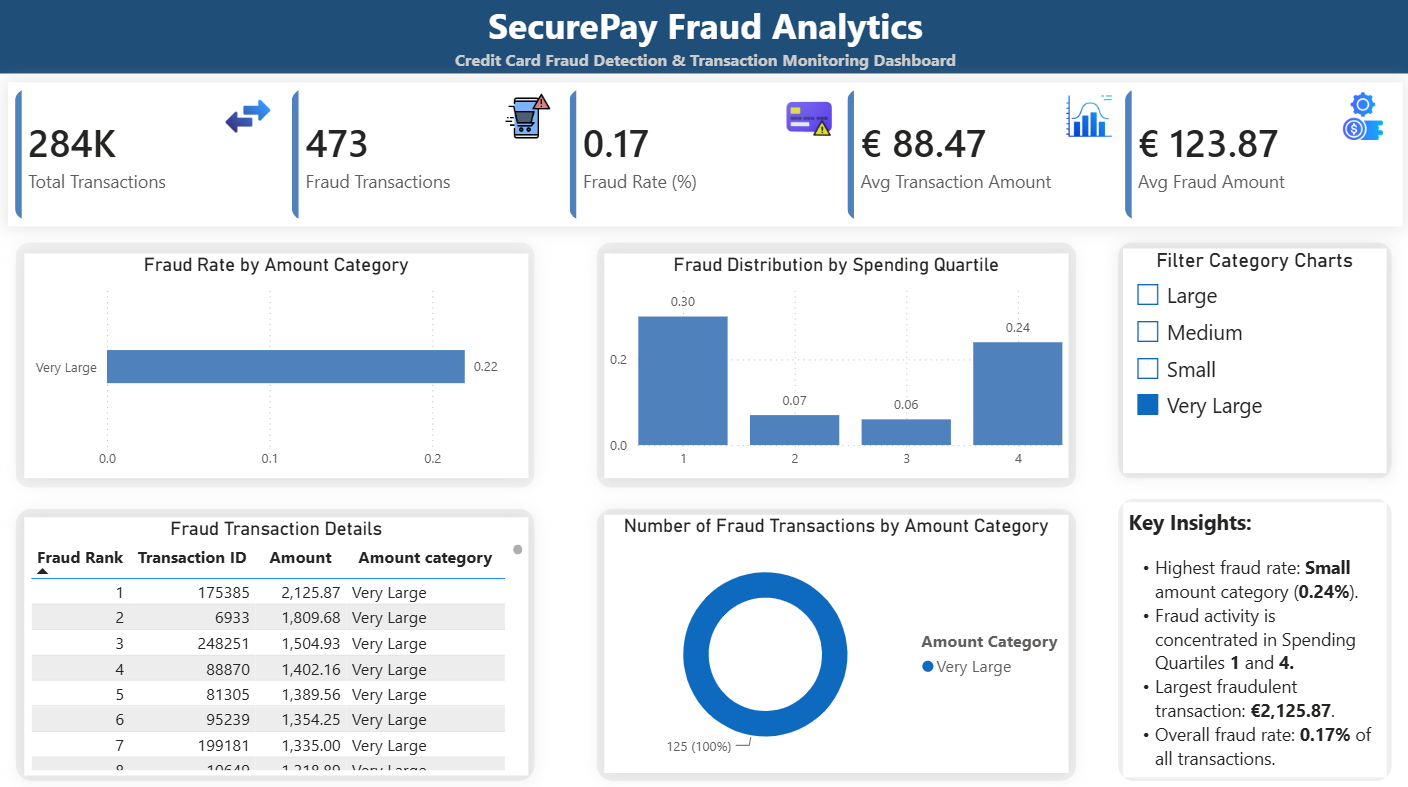

The page's visual inventory and layout, read from the dashboard file:
{"tool":"powerbi","page":{"name":"Fraud Overview","canvas":[1280,720],"ordinal":0},"visuals":[{"type":"shape","box":[0,0,1279.9,70.1],"z":0},{"type":"cardVisual","fields":{"Data":["Sum(public vw_executive_summary.total_transactions)","Sum(public vw_executive_summary.fraud_transactions)","Sum(public vw_executive_summary.fraud_percentage)","Sum(public vw_executive_summary.avg_transaction_amount)","Sum(public vw_executive_summary.avg_fraud_amount)"]},"box":[9.3,77.9,1261.6,130.2],"z":1000},{"type":"textbox","box":[0,0,1279.9,78],"z":2000},{"type":"shape","box":[16.3,223.3,469.8,222.1],"z":3000},{"type":"clusteredBarChart","title":"Fraud Rate by Amount Category","fields":{"Category":["public vw_amount_category_summary.amount_category"],"Y":["Sum(public vw_amount_category_summary.fraud_percentage)"]},"box":[23.3,232.6,455.8,203.5],"z":4000},{"type":"shape","box":[541.9,223.3,433.7,222.1],"z":5000},{"type":"columnChart","title":"Fraud Distribution by Spending Quartile","fields":{"Category":["public vw_spending_quartiles.spending_quartile"],"Y":["Sum(public vw_spending_quartiles.fraud_percentage)"]},"box":[548.8,232.6,419.8,203.5],"z":6000},{"type":"shape","box":[1012.8,223.3,247.7,214],"z":7000},{"type":"slicer","title":"Filter Category Charts","fields":{"Values":["public vw_amount_category_summary.amount_category"]},"box":[1017.4,227.9,238.4,203.5],"z":8000},{"type":"shape","box":[16.3,464,469.8,246.5],"z":9000},{"type":"tableEx","title":"Fraud Transaction Details","fields":{"Values":["public vw_fraud_ranking.fraud_rank","public vw_fraud_ranking.transaction_id","public vw_fraud_ranking.amount","public vw_fraud_ranking.amount_category"]},"box":[23.3,470.9,455.8,233.7],"z":10000},{"type":"shape","box":[541.9,464,433.7,246.5],"z":11000},{"type":"donutChart","fields":{"Category":["public vw_amount_category_summary.amount_category"],"Y":["Sum(public vw_amount_category_summary.fraud_transactions)"]},"box":[548.8,469.8,419.8,233.7],"z":12000},{"type":"shape","box":[1012.8,454.7,247.7,255.8],"z":13000},{"type":"textbox","box":[1017.4,458.1,238.4,248.8],"z":14000},{"type":"image","box":[1209.3,87.2,50,43],"z":14001},{"type":"image","box":[454.7,87.2,50,43],"z":14002},{"type":"image","box":[709.3,87.2,50,43],"z":14003},{"type":"image","box":[961.6,87.2,50,43],"z":14004},{"type":"image","box":[201.2,87.2,50,43],"z":14005}]}

Visuals, with their boxes in screenshot pixels (x1, y1, x2, y2), scaled from the page's 1280x720 canvas onto the 1408x787 screenshot:
shape: (0,0,1407,77)
cardVisual - Sum(public vw_executive_summary.total_transactions) x Sum(public vw_executive_summary.fraud_transactions): (10,85,1398,227)
textbox: (0,0,1407,85)
shape: (18,244,535,487)
"Fraud Rate by Amount Category" clusteredBarChart: (26,254,527,477)
shape: (596,244,1073,487)
"Fraud Distribution by Spending Quartile" columnChart: (604,254,1065,477)
shape: (1114,244,1387,478)
"Filter Category Charts" slicer: (1119,249,1381,472)
shape: (18,507,535,777)
"Fraud Transaction Details" tableEx: (26,515,527,770)
shape: (596,507,1073,777)
donutChart - public vw_amount_category_summary.amount_category x Sum(public vw_amount_category_summary.fraud_transactions): (604,514,1065,769)
shape: (1114,497,1387,777)
textbox: (1119,501,1381,773)
image: (1330,95,1385,142)
image: (500,95,555,142)
image: (780,95,835,142)
image: (1058,95,1113,142)
image: (221,95,276,142)
